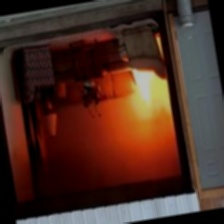fire: (125, 70, 169, 129)
